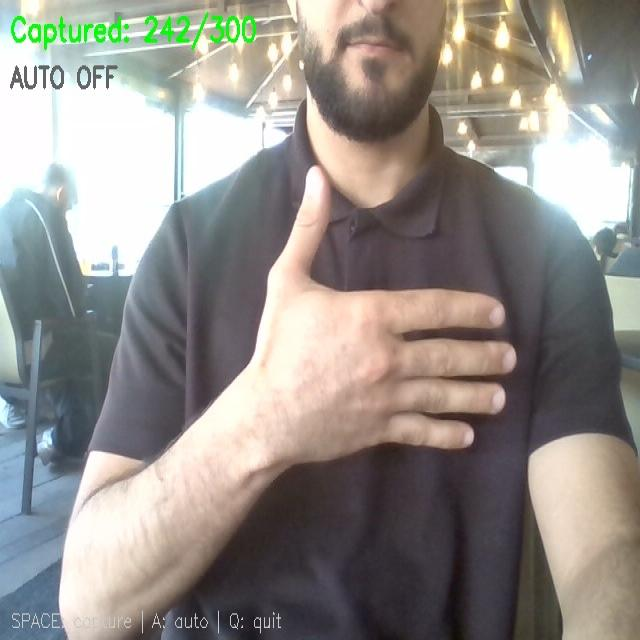Hand: (248, 167, 515, 465)
